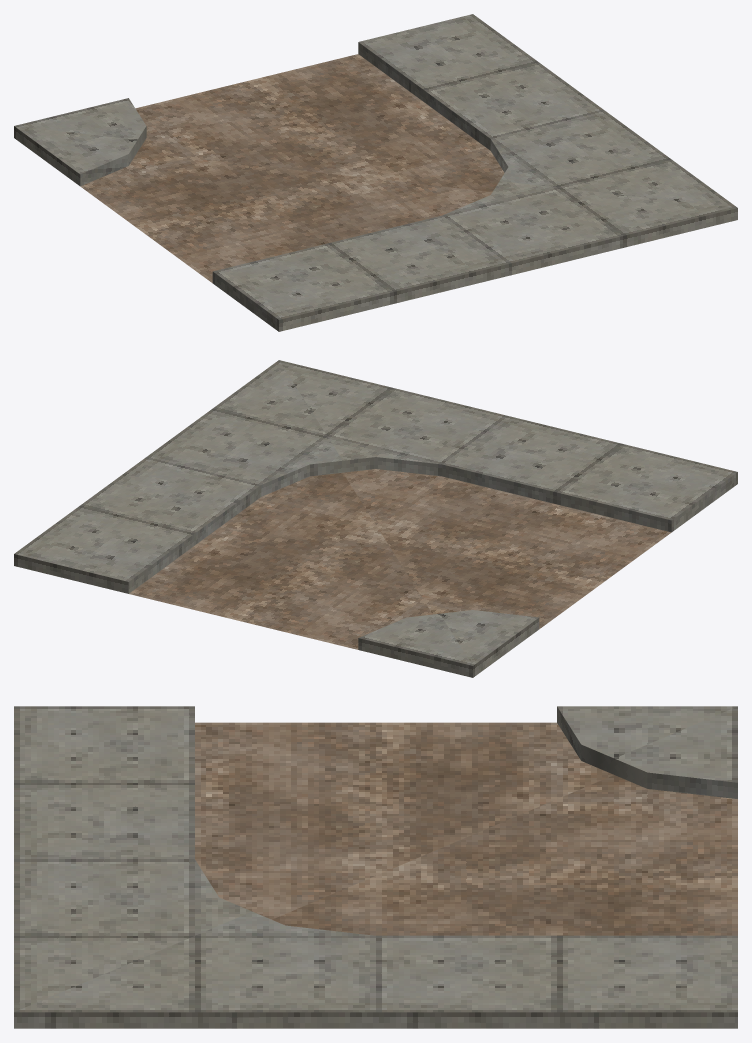
File: roadDirt_corner.glb
The picture shows the model from 3 angles, top to bottom: view 1: azimuth 30°, elevation 25°; view 2: azimuth 150°, elevation 25°; view 3: azimuth 270°, elevation 25°; orthographic projection. The views are drawn at different scales.
Visible parts, largest first — view 1: roadDirt_corner; view 2: roadDirt_corner; view 3: roadDirt_corner.
Part boxes in pixels (x1,y1,x2,y2): roadDirt_corner: (14,14,737,331); roadDirt_corner: (14,360,737,677); roadDirt_corner: (14,706,737,1028).
Bounding box in the file's own units: 2 × 0.05 × 2.
Materials: 2 (2 with a texture image).
